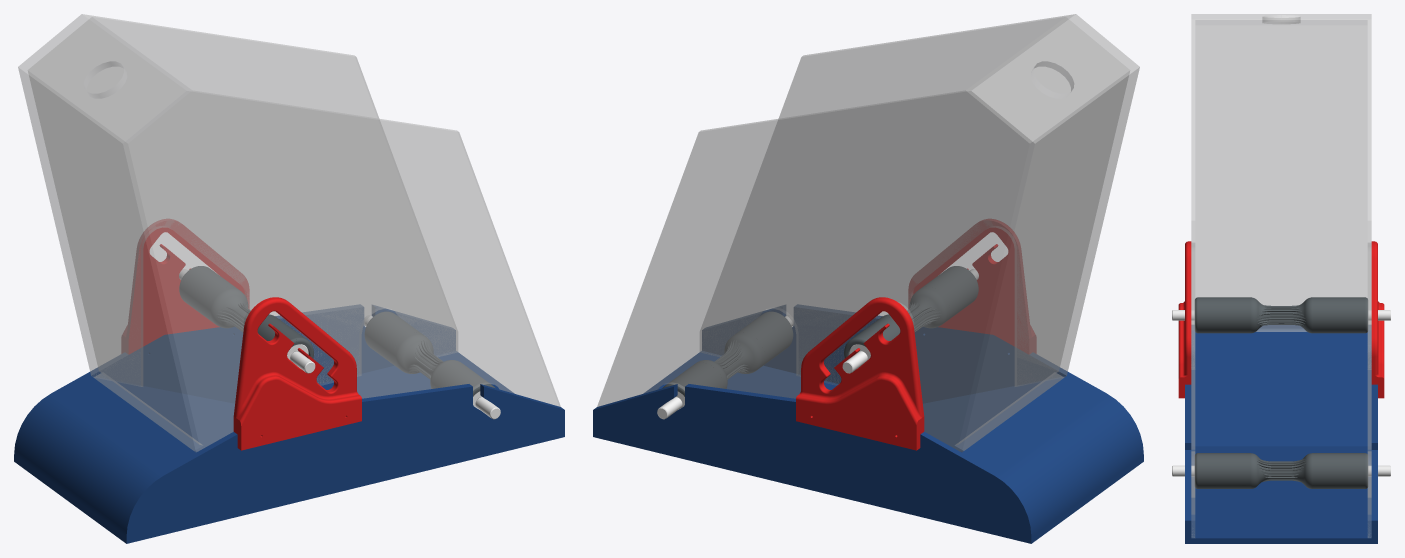
The picture shows the model from 3 angles, left to right: view 1: azimuth 30°, elevation 25°; view 2: azimuth 150°, elevation 25°; view 3: azimuth 270°, elevation 25°; orthographic projection. The views are drawn at different scales.
Parts seen in each view (by area): view 1: Solid1 (×9); view 2: Solid1 (×9); view 3: Solid1 (×12), Solid2 (×2).
Part boxes in pixels (x1,y1,x2,y2): Solid1 (×9): [14, 14, 564, 543]; Solid1 (×9): [593, 14, 1143, 543]; Solid1 (×12): [1172, 14, 1390, 543]; Solid2 (×2): [1257, 306, 1305, 478].
Bounding box in the file's own units: 0.675 × 0.64 × 0.34.
